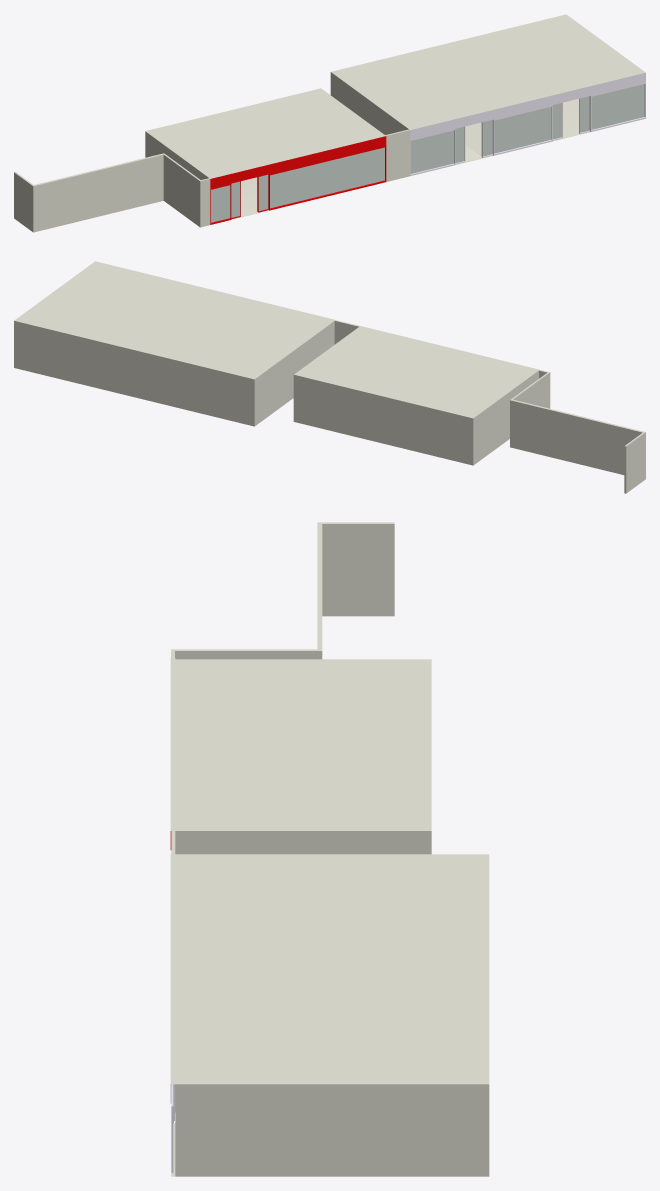
Rendered from shop 2.FBX.
3 renders of one model, top to bottom at view 1: azimuth 30°, elevation 25°; view 2: azimuth 150°, elevation 25°; view 3: azimuth 270°, elevation 25°, orthographic. The views are drawn at different scales.
Parts seen in each view (by area): view 1: Shop 2; view 2: Shop 2; view 3: Shop 2.
Boxes of the visible parts, x1,y1,x2,y2 form: Shop 2: [14, 14, 645, 232]; Shop 2: [14, 261, 645, 493]; Shop 2: [170, 522, 489, 1176].
Size of the model in its own units: 2179 by 167 by 522.
Materials: 1 (1 with a texture image).
